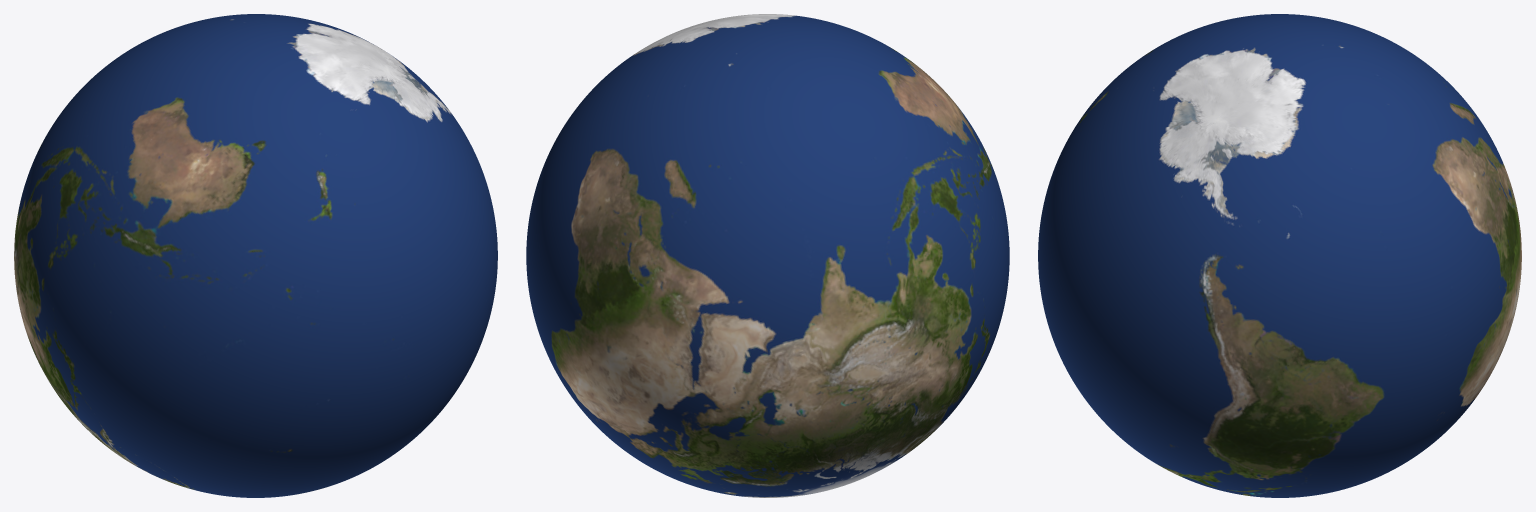
3 views of the same model, side by side, from view 1: azimuth 30°, elevation 25°; view 2: azimuth 150°, elevation 25°; view 3: azimuth 270°, elevation 25° (orthographic).
Parts seen in each view (by area): view 1: Sphere; view 2: Sphere; view 3: Sphere.
Boxes of the visible parts, box(x1,y1,x2,y2) form: Sphere: box(14, 14, 497, 497); Sphere: box(526, 14, 1009, 497); Sphere: box(1038, 14, 1521, 497).
Size of the model in its own units: 2 by 2 by 2.
